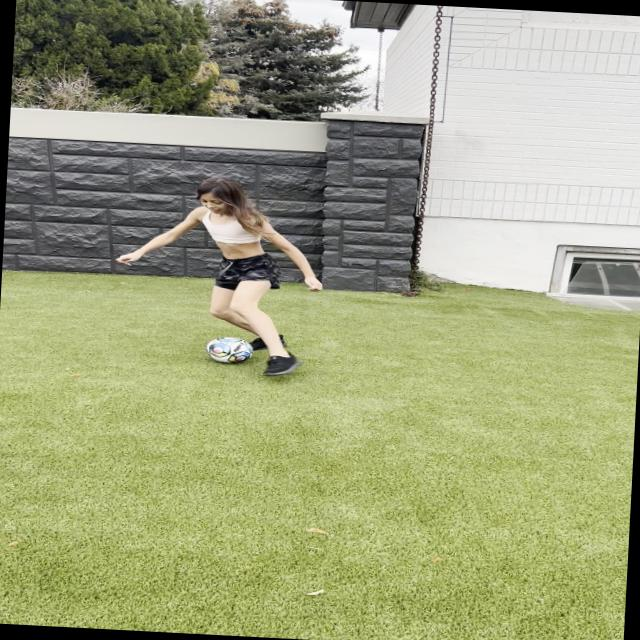Soccer Ball: (208, 336, 255, 366)
